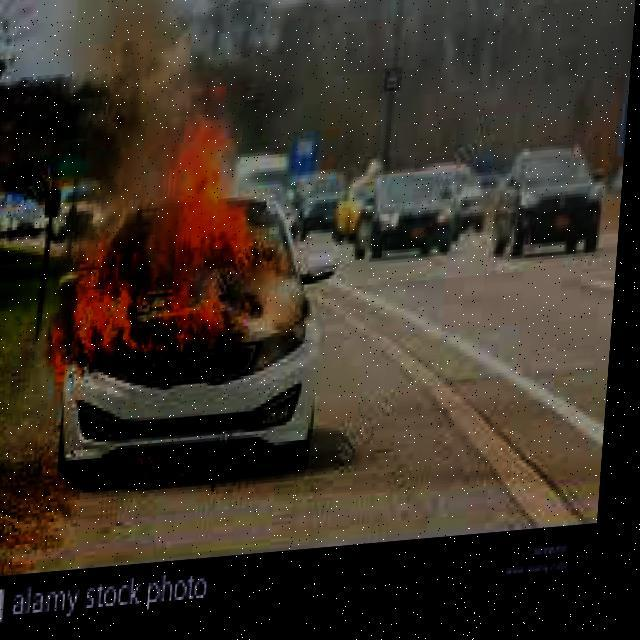Fire: (58, 124, 277, 378)
